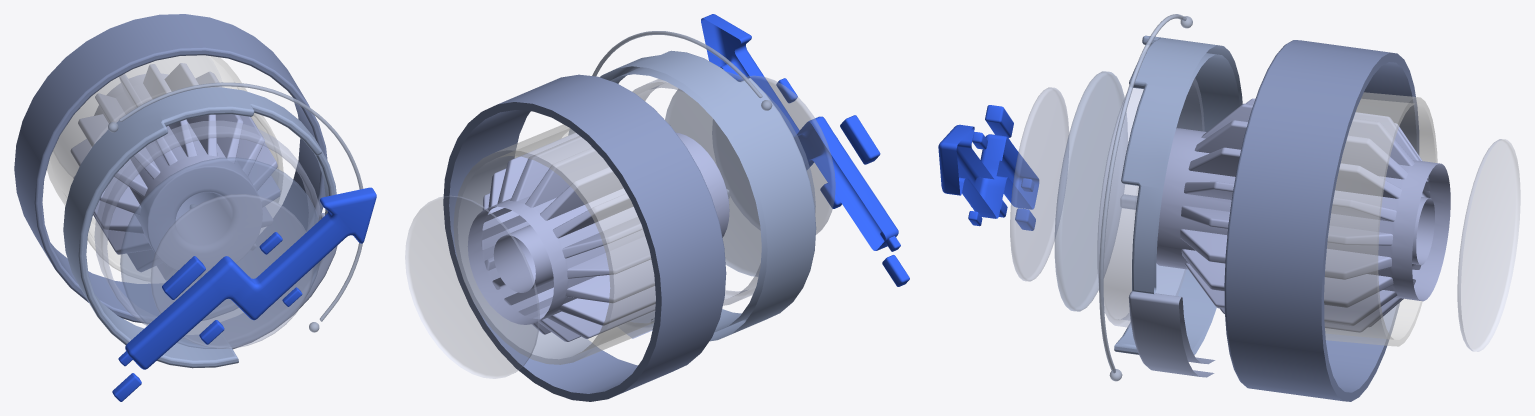
File: banner-min.glb
3 views of the same model, side by side, from view 1: azimuth 30°, elevation 25°; view 2: azimuth 150°, elevation 25°; view 3: azimuth 270°, elevation 25° (orthographic). The views are drawn at different scales.
Parts seen in each view (by area): view 1: 引擎内核, 空心圆柱体, 圆饼, 玻璃圆柱体, 通过曲线生成圆环, 箭头, 玻璃引擎, 曲线生成圆环, 半圆环; view 2: 空心圆柱体, 引擎内核, 玻璃圆柱体, 通过曲线生成圆环, 玻璃引擎, 箭头, 圆饼, 半圆环, 曲线生成圆环; view 3: 空心圆柱体, 引擎内核, 玻璃圆柱体, 通过曲线生成圆环, 玻璃引擎, 圆饼, 箭头, 曲线生成圆环, 半圆环.
Boxes of the visible parts, x1,y1,x2,y2 form: 引擎内核: [70, 63, 280, 279]; 空心圆柱体: [14, 14, 327, 323]; 圆饼: [120, 157, 320, 348]; 玻璃圆柱体: [94, 77, 320, 348]; 通过曲线生成圆环: [63, 87, 336, 368]; 箭头: [112, 187, 376, 401]; 玻璃引擎: [47, 55, 283, 281]; 曲线生成圆环: [221, 213, 337, 349]; 半圆环: [108, 82, 363, 332]; 空心圆柱体: [443, 74, 726, 401]; 引擎内核: [467, 132, 729, 341]; 玻璃圆柱体: [405, 75, 835, 378]; 通过曲线生成圆环: [568, 50, 816, 341]; 玻璃引擎: [453, 124, 655, 364]; 箭头: [701, 14, 909, 286]; 圆饼: [665, 71, 815, 276]; 半圆环: [592, 31, 772, 198]; 曲线生成圆环: [618, 311, 655, 338]; 空心圆柱体: [1224, 40, 1419, 401]; 引擎内核: [1156, 98, 1450, 332]; 玻璃圆柱体: [1010, 78, 1520, 351]; 通过曲线生成圆环: [1114, 35, 1242, 354]; 玻璃引擎: [1324, 92, 1437, 346]; 圆饼: [1054, 71, 1127, 311]; 箭头: [938, 105, 1039, 230]; 曲线生成圆环: [1128, 291, 1215, 377]; 半圆环: [1099, 14, 1192, 381].
Size of the model in its own units: 28.29 by 23.98 by 38.14.
